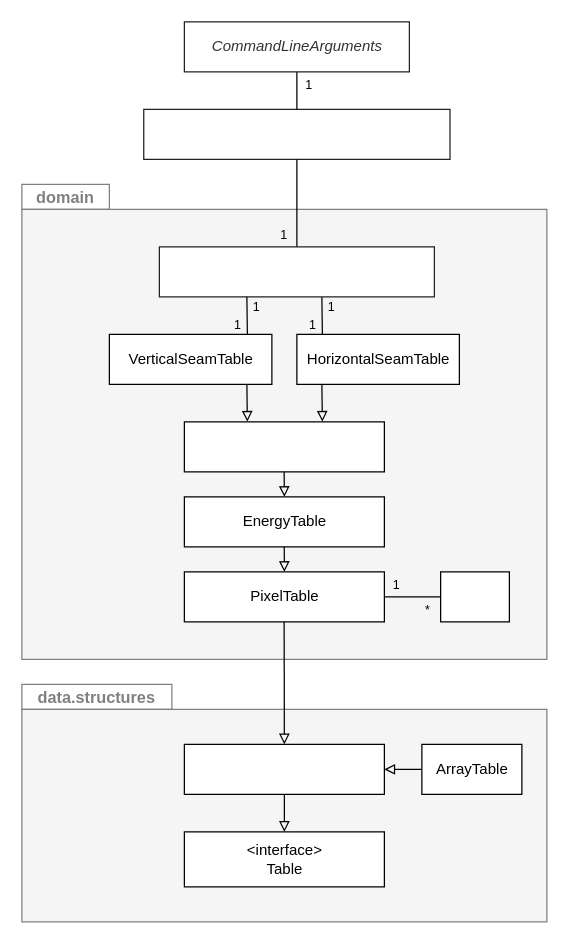
This 569x944 diagram has some shape labels left out. Here are the shapes that lost their labels. From the top down, the box of each, then its label:
(142, 108, 450, 159): Application - main()
(158, 246, 434, 297): ContentAwareImageScaler
(183, 421, 384, 472): AbstractSeamTable
(439, 571, 509, 622): Pixel
(183, 743, 384, 794): AbstractTable
